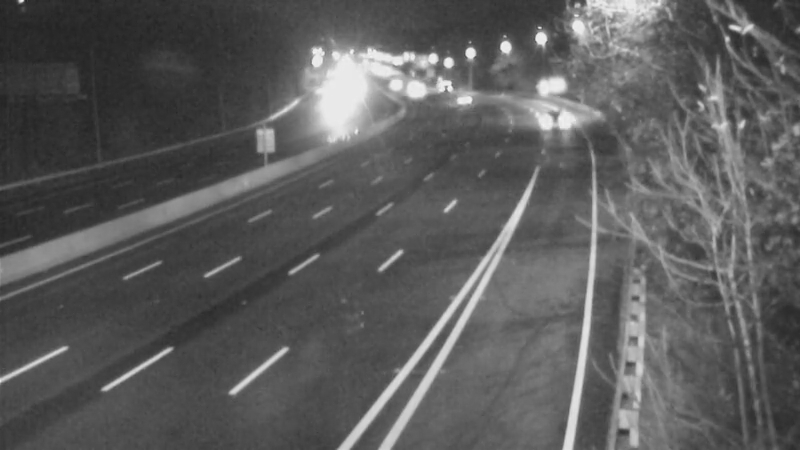vehicle: (416, 60, 466, 110), (373, 58, 423, 108), (391, 60, 441, 110), (398, 67, 448, 117), (431, 70, 481, 120), (527, 101, 577, 151), (306, 77, 356, 127)
